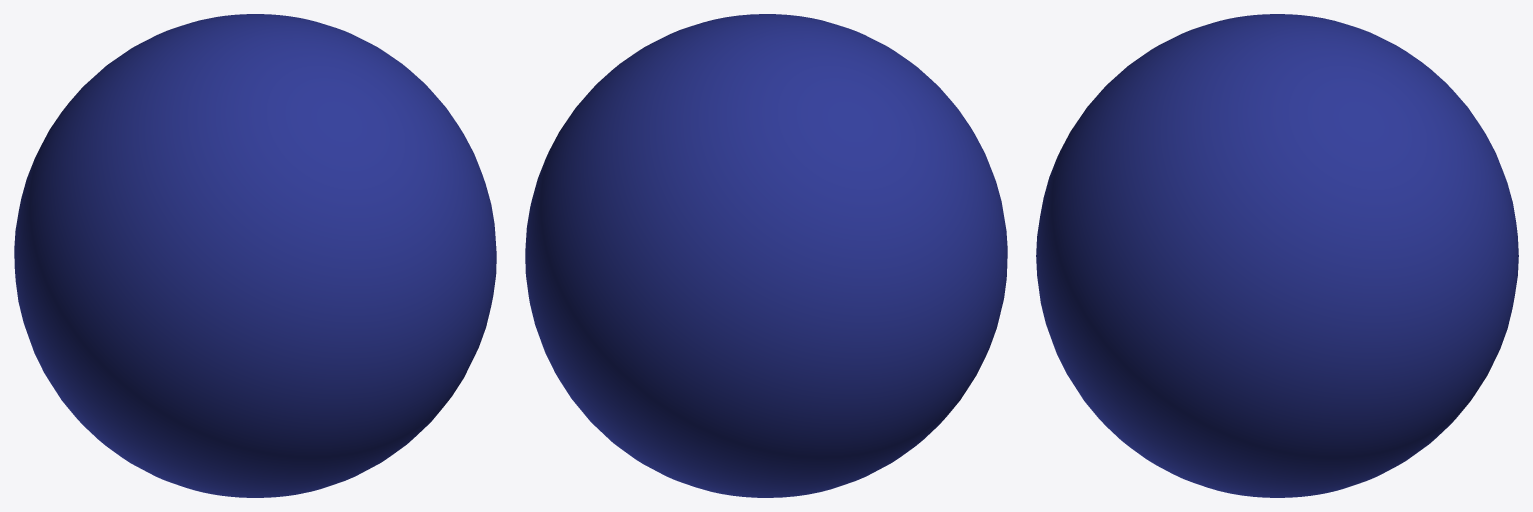
Rendered from ROBOT_CHALLENGE (BLUE BALL) v2.fbx.
3 views of the same model, side by side, from view 1: azimuth 30°, elevation 25°; view 2: azimuth 150°, elevation 25°; view 3: azimuth 270°, elevation 25° (orthographic).
Visible parts, largest first — view 1: Body1; view 2: Body1; view 3: Body1.
Part boxes in pixels (bbox=[...]): Body1: bbox=[14, 14, 496, 497]; Body1: bbox=[525, 14, 1007, 497]; Body1: bbox=[1036, 14, 1518, 497].
Size of the model in its own units: 0.0497 by 0.05 by 0.0497.
